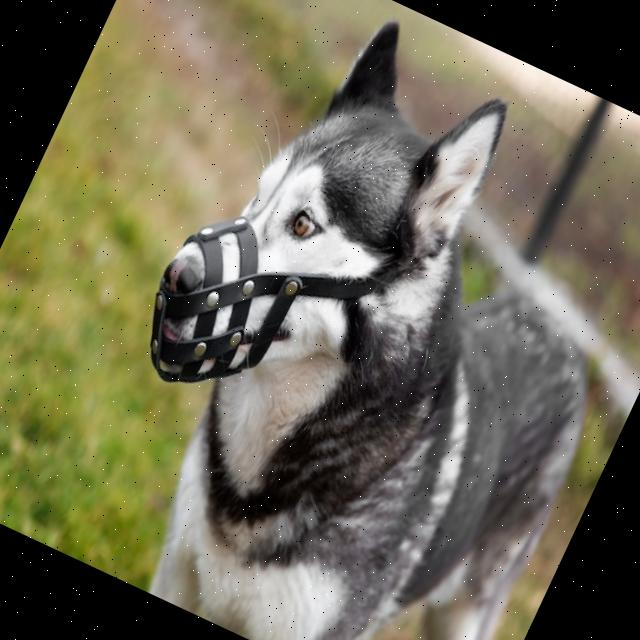Dog: (38, 0, 640, 640)
